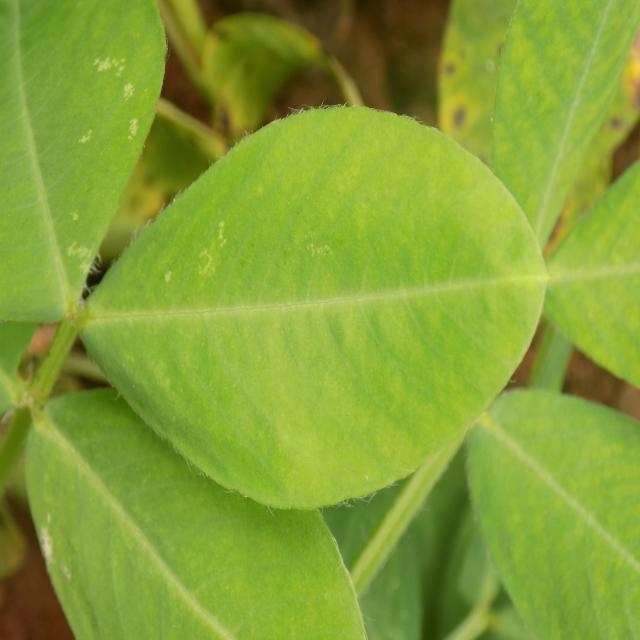Ground nut_healthy: (87, 103, 552, 506)
